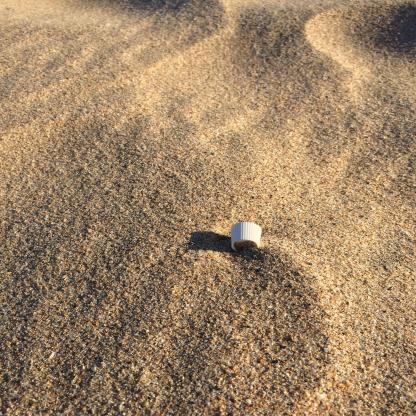plastik: (232, 223, 264, 253)
